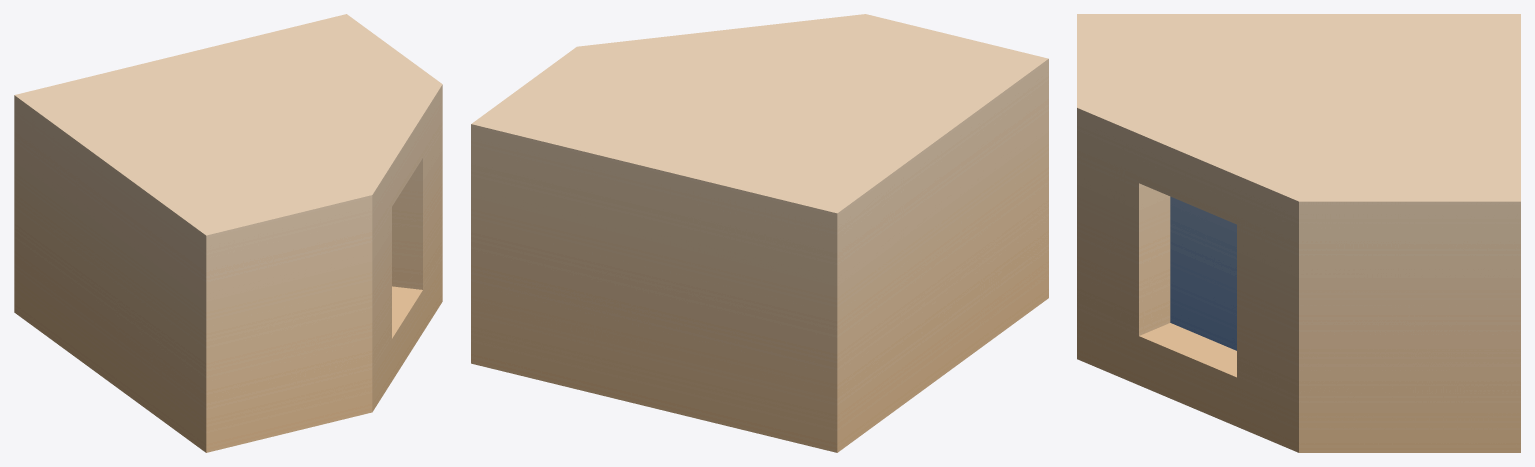
File: building_corner_window.glb
The picture shows the model from 3 angles, left to right: view 1: azimuth 30°, elevation 25°; view 2: azimuth 150°, elevation 25°; view 3: azimuth 270°, elevation 25°; orthographic projection. The views are drawn at different scales.
Visible parts, largest first — view 1: building-corner-window; view 2: building-corner-window; view 3: building-corner-window.
Boxes of the visible parts, x1,y1,x2,y2 form: building-corner-window: (14,14,442,452); building-corner-window: (471,14,1048,452); building-corner-window: (1077,14,1520,452).
Bounding box in the file's own units: 1 × 0.625 × 1.
Materials: 1 (1 with a texture image).
